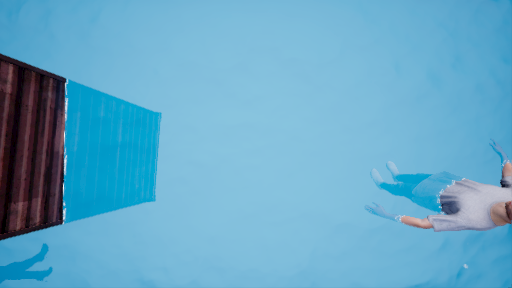person: (365, 145, 512, 250)
